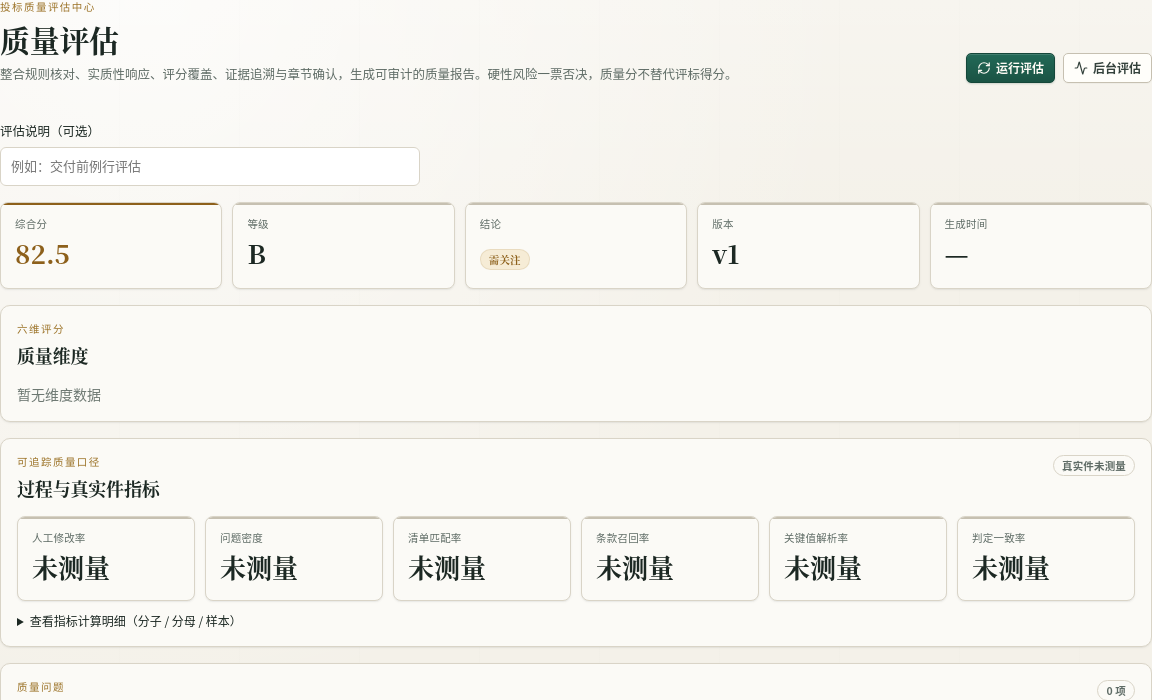
it: QualityTab 证据与明细 › 后端 measured=false 的指标显示未测量，绝不显示 0.0%
The image size is (1152, 700).
Click the heading "查看指标计算明细（分子 / 分母 / 样本）" at (136, 620), box [30, 612, 242, 629]
(page scrolled)
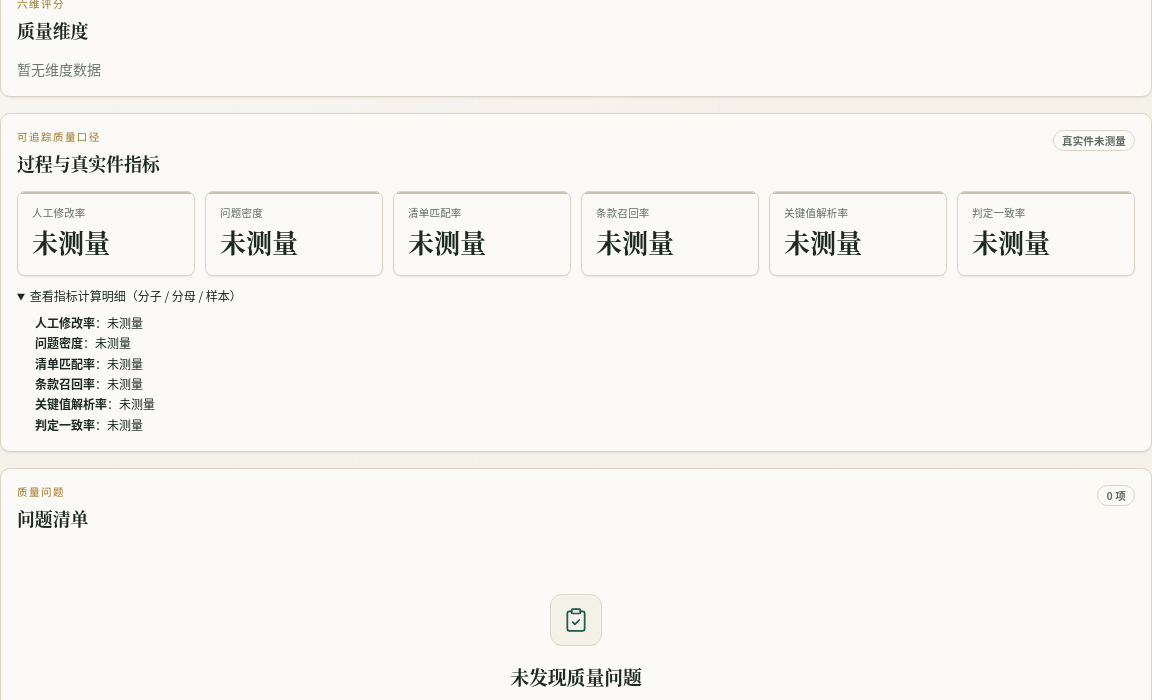
Expected: the text "查看指标计算明细" shows "未测量", [107, 314, 143, 331]
